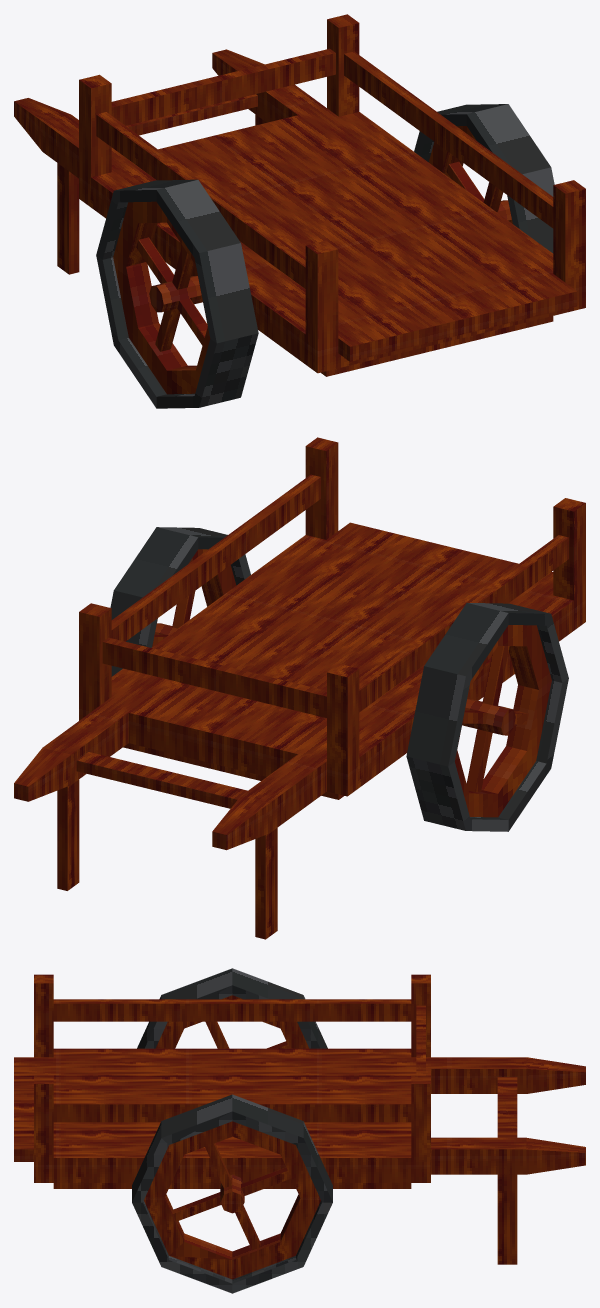
Rendered from cart.glb.
The picture shows the model from 3 angles, top to bottom: view 1: azimuth 30°, elevation 25°; view 2: azimuth 150°, elevation 25°; view 3: azimuth 270°, elevation 25°; orthographic projection. The views are drawn at different scales.
Parts seen in each view (by area): view 1: cart, wheel.001, wheel; view 2: cart, wheel.001, wheel; view 3: cart, wheel, wheel.001.
Part boxes in pixels (bbox=[...]): cart: bbox=[14, 14, 585, 376]; wheel.001: bbox=[96, 179, 258, 408]; wheel: bbox=[414, 104, 554, 253]; cart: bbox=[14, 437, 585, 939]; wheel.001: bbox=[406, 603, 568, 831]; wheel: bbox=[110, 527, 250, 676]; cart: bbox=[14, 974, 585, 1264]; wheel: bbox=[132, 1094, 332, 1293]; wheel.001: bbox=[137, 968, 327, 1048].
Bounding box in the file's own units: 0.8525 × 0.5355 × 1.44.
Materials: 2 (2 with a texture image).
